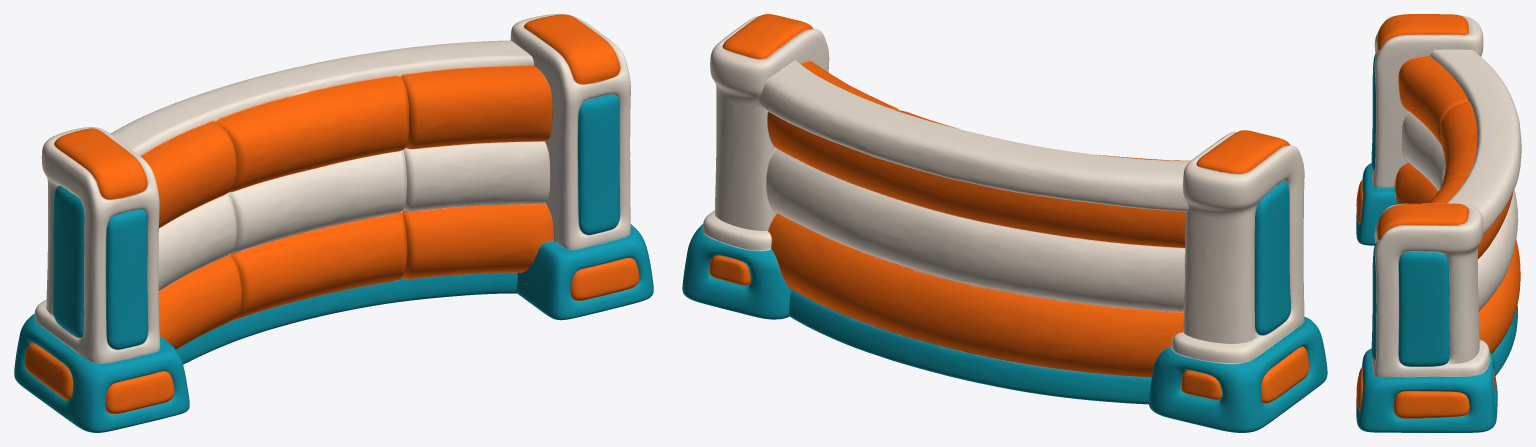
Rendered from Meshy_AI_roofline_bumper_rail__1024085458_image-to-3d-texture.glb.
The picture shows the model from 3 angles, left to right: view 1: azimuth 30°, elevation 25°; view 2: azimuth 150°, elevation 25°; view 3: azimuth 270°, elevation 25°; orthographic projection. The views are drawn at different scales.
Size of the model in its own units: 1.9 by 0.789 by 0.5782.
1 material, 1 textured.
